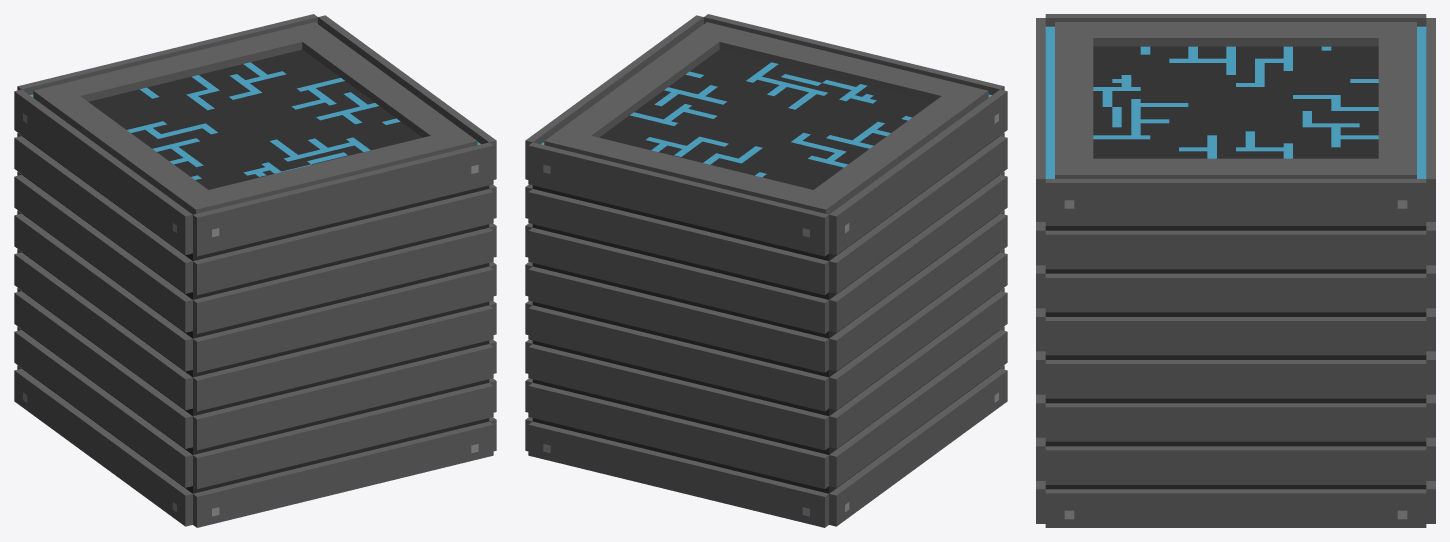
The model's file is space_wall.obj.
3 views of the same model, side by side, from view 1: azimuth 30°, elevation 25°; view 2: azimuth 150°, elevation 25°; view 3: azimuth 270°, elevation 25° (orthographic). The views are drawn at different scales.
Parts seen in each view (by area): view 1: space_wall; view 2: space_wall; view 3: space_wall.
Part boxes in pixels (bbox=[...]): space_wall: bbox=[14, 14, 496, 527]; space_wall: bbox=[525, 14, 1007, 527]; space_wall: bbox=[1036, 14, 1435, 527].
Size of the model in its own units: 42 by 40 by 42.
1 material, 1 textured.
